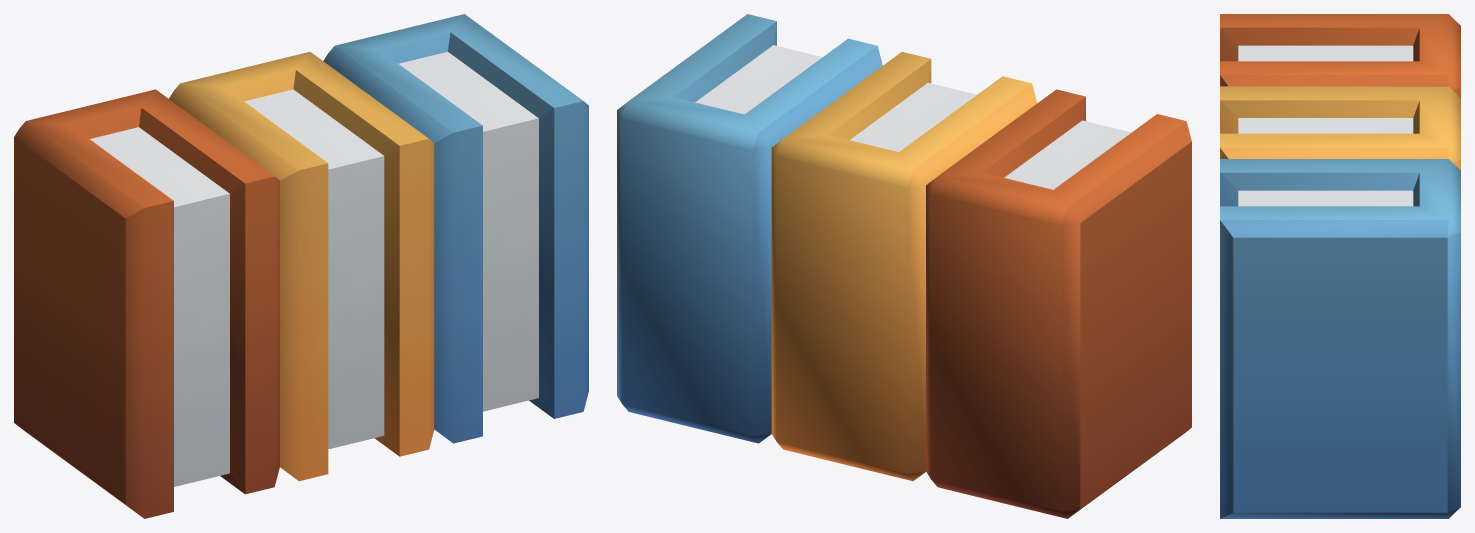
File: kay-livros.gltf
3 views of the same model, side by side, from view 1: azimuth 30°, elevation 25°; view 2: azimuth 150°, elevation 25°; view 3: azimuth 270°, elevation 25° (orthographic). The views are drawn at different scales.
Parts seen in each view (by area): view 1: book_set; view 2: book_set; view 3: book_set.
Boxes of the visible parts, box(x1,y1,x2,y2) form: book_set: box(14, 14, 588, 518); book_set: box(617, 14, 1191, 518); book_set: box(1220, 14, 1460, 518).
Bounding box in the file's own units: 0.507 × 0.325 × 0.2372.
Materials: 1 (1 with a texture image).
